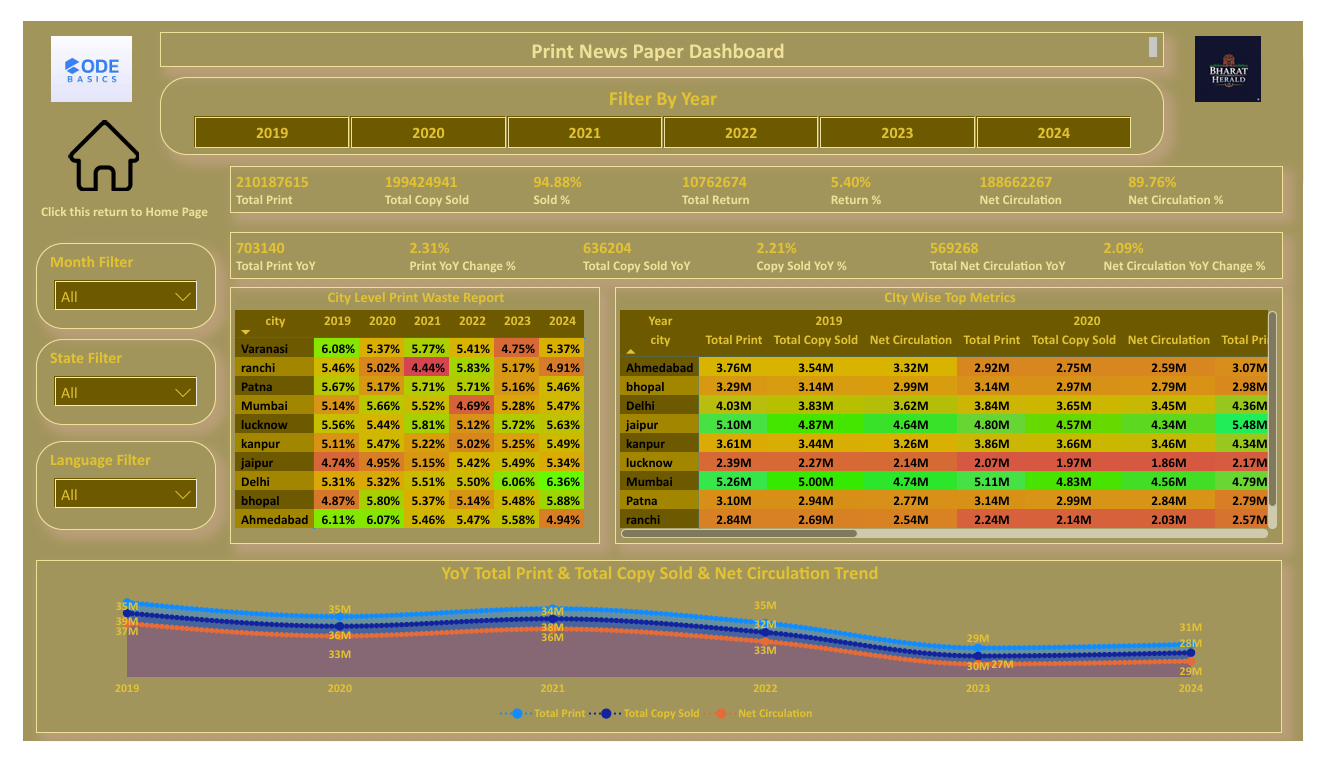

The page's visual inventory and layout, read from the dashboard file:
{"tool":"powerbi","page":{"name":"Print Dashboard","canvas":[1280,720],"ordinal":1},"visuals":[{"type":"textbox","box":[136.2,9.7,1003.8,35],"z":0},{"type":"image","box":[0,9.7,136.2,75.9],"z":1000},{"type":"image","box":[1130.2,9.7,149.8,75.9],"z":2000},{"type":"slicer","title":"Filter By Year","fields":{"Values":["UniqueYear.Year"]},"box":[136.2,55.4,1003.8,77.8],"z":3000},{"type":"slicer","title":"Language Filter","fields":{"Values":["Fact_PrintSales.Language"]},"box":[11.5,419.4,180.9,88.7],"z":4000},{"type":"multiRowCard","fields":{"Values":["Report_Measure.Total Print","Report_Measure.Total Copy Sold","Report_Measure.Sold %","Report_Measure.Total Return","Report_Measure.Return %","Report_Measure.Net Circulation","Report_Measure.Net Circulation %"]},"box":[206.2,144,1052.4,46.7],"z":5000},{"type":"multiRowCard","fields":{"Values":["Report_Measure.Total Print YoY","Report_Measure.Print YoY Change %","Report_Measure.Total Copy Sold YoY","Report_Measure.Copy Sold YoY %","Report_Measure.Total Net Circulation YoY","Report_Measure.Net Circulation YoY Change %"]},"box":[206.2,210.1,1052.4,46.7],"z":6000},{"type":"areaChart","title":"YoY Total Print & Total Copy Sold & Net Circulation Trend","fields":{"Category":["UniqueYear.Year"],"Y":["Report_Measure.Total Print","Report_Measure.Total Copy Sold","Report_Measure.Net Circulation"]},"box":[11.5,538.2,1246.7,172.9],"z":7000},{"type":"pivotTable","title":"CIty Wise Top Metrics","fields":{"Rows":["Dim_City.city"],"Columns":["UniqueYear.Year"],"Values":["Report_Measure.Total Print","Report_Measure.Total Copy Sold","Report_Measure.Net Circulation"]},"box":[591.4,264.6,667.2,257.8],"z":8000},{"type":"pivotTable","title":"City Level Print Waste Report","fields":{"Rows":["Dim_City.city"],"Columns":["UniqueYear.Year"],"Values":["Report_Measure.Return %"]},"box":[206.2,264.6,369.6,257.8],"z":9000},{"type":"slicer","title":"State Filter","fields":{"Values":["Dim_City.state"]},"box":[11.5,316.6,180.9,86.9],"z":10000},{"type":"slicer","title":"Month Filter","fields":{"Values":["Fact_PrintSales.NewMonth"]},"box":[11.5,220.8,180.9,86],"z":11000},{"type":"image","box":[39.9,94,80.7,80.7],"z":12000},{"type":"textbox","box":[11.5,174.7,180.9,35.5],"z":13000}]}

Visuals, with their boxes in screenshot pixels (x1, y1, x2, y2), scaled from the page's 1280x720 canvas onto the 1326x764 screenshot:
textbox: (left=141, top=10, right=1181, bottom=47)
image: (left=0, top=10, right=141, bottom=91)
image: (left=1171, top=10, right=1325, bottom=91)
"Filter By Year" slicer: (left=141, top=59, right=1181, bottom=141)
"Language Filter" slicer: (left=12, top=445, right=199, bottom=539)
multiRowCard - Report_Measure.Total Print x Report_Measure.Total Copy Sold: (left=214, top=153, right=1304, bottom=202)
multiRowCard - Report_Measure.Total Print YoY x Report_Measure.Print YoY Change %: (left=214, top=223, right=1304, bottom=272)
"YoY Total Print & Total Copy Sold & Net Circulation Trend" areaChart: (left=12, top=571, right=1303, bottom=755)
"CIty Wise Top Metrics" pivotTable: (left=613, top=281, right=1304, bottom=554)
"City Level Print Waste Report" pivotTable: (left=214, top=281, right=596, bottom=554)
"State Filter" slicer: (left=12, top=336, right=199, bottom=428)
"Month Filter" slicer: (left=12, top=234, right=199, bottom=326)
image: (left=41, top=100, right=125, bottom=185)
textbox: (left=12, top=185, right=199, bottom=223)
